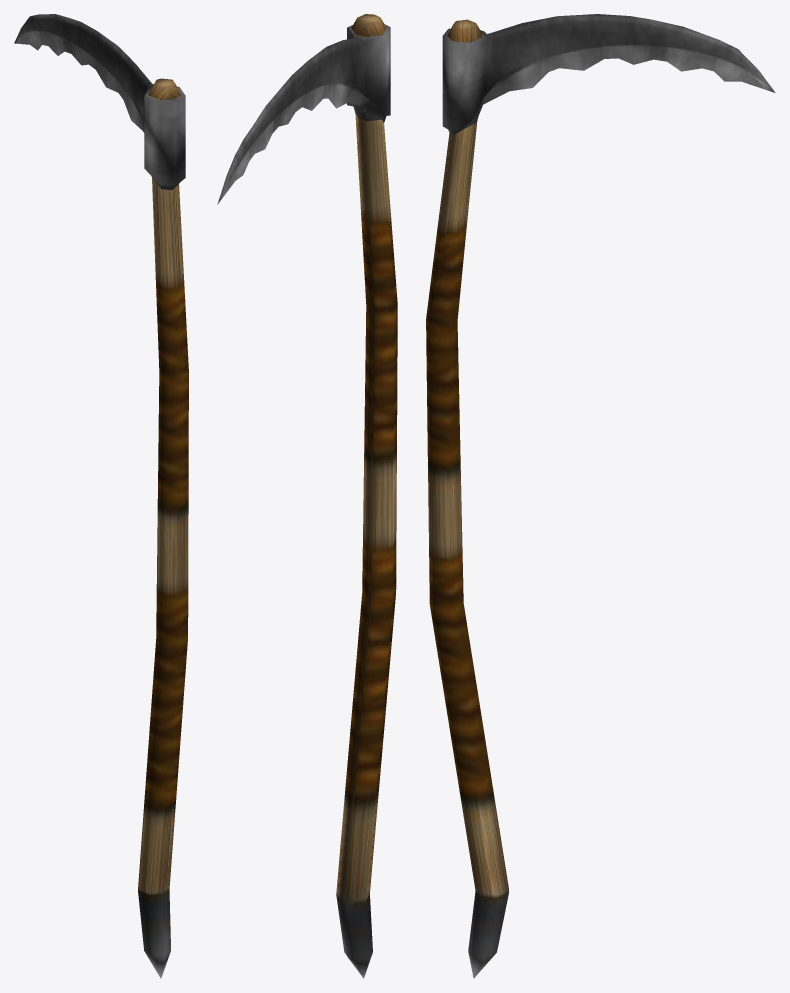
The model's file is weapons_fa_scy.glb.
3 views of the same model, side by side, from view 1: azimuth 30°, elevation 25°; view 2: azimuth 150°, elevation 25°; view 3: azimuth 270°, elevation 25° (orthographic). The views are drawn at different scales.
Parts seen in each view (by area): view 1: fa_scy; view 2: fa_scy; view 3: fa_scy.
Boxes of the visible parts, bbox=[...] form: fa_scy: bbox=[14, 14, 188, 978]; fa_scy: bbox=[217, 14, 397, 978]; fa_scy: bbox=[426, 14, 775, 978].
Size of the model in its own units: 0.0684 by 1.66 by 0.5474.
1 material, 1 textured.
